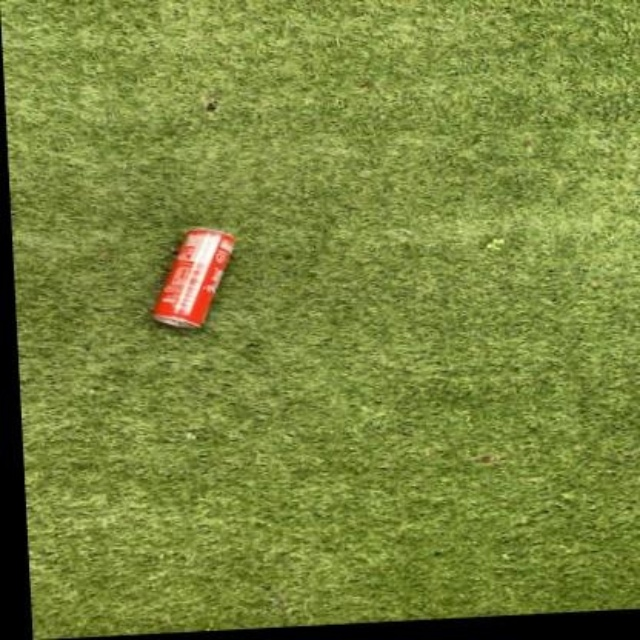trash: (152, 228, 234, 326)
